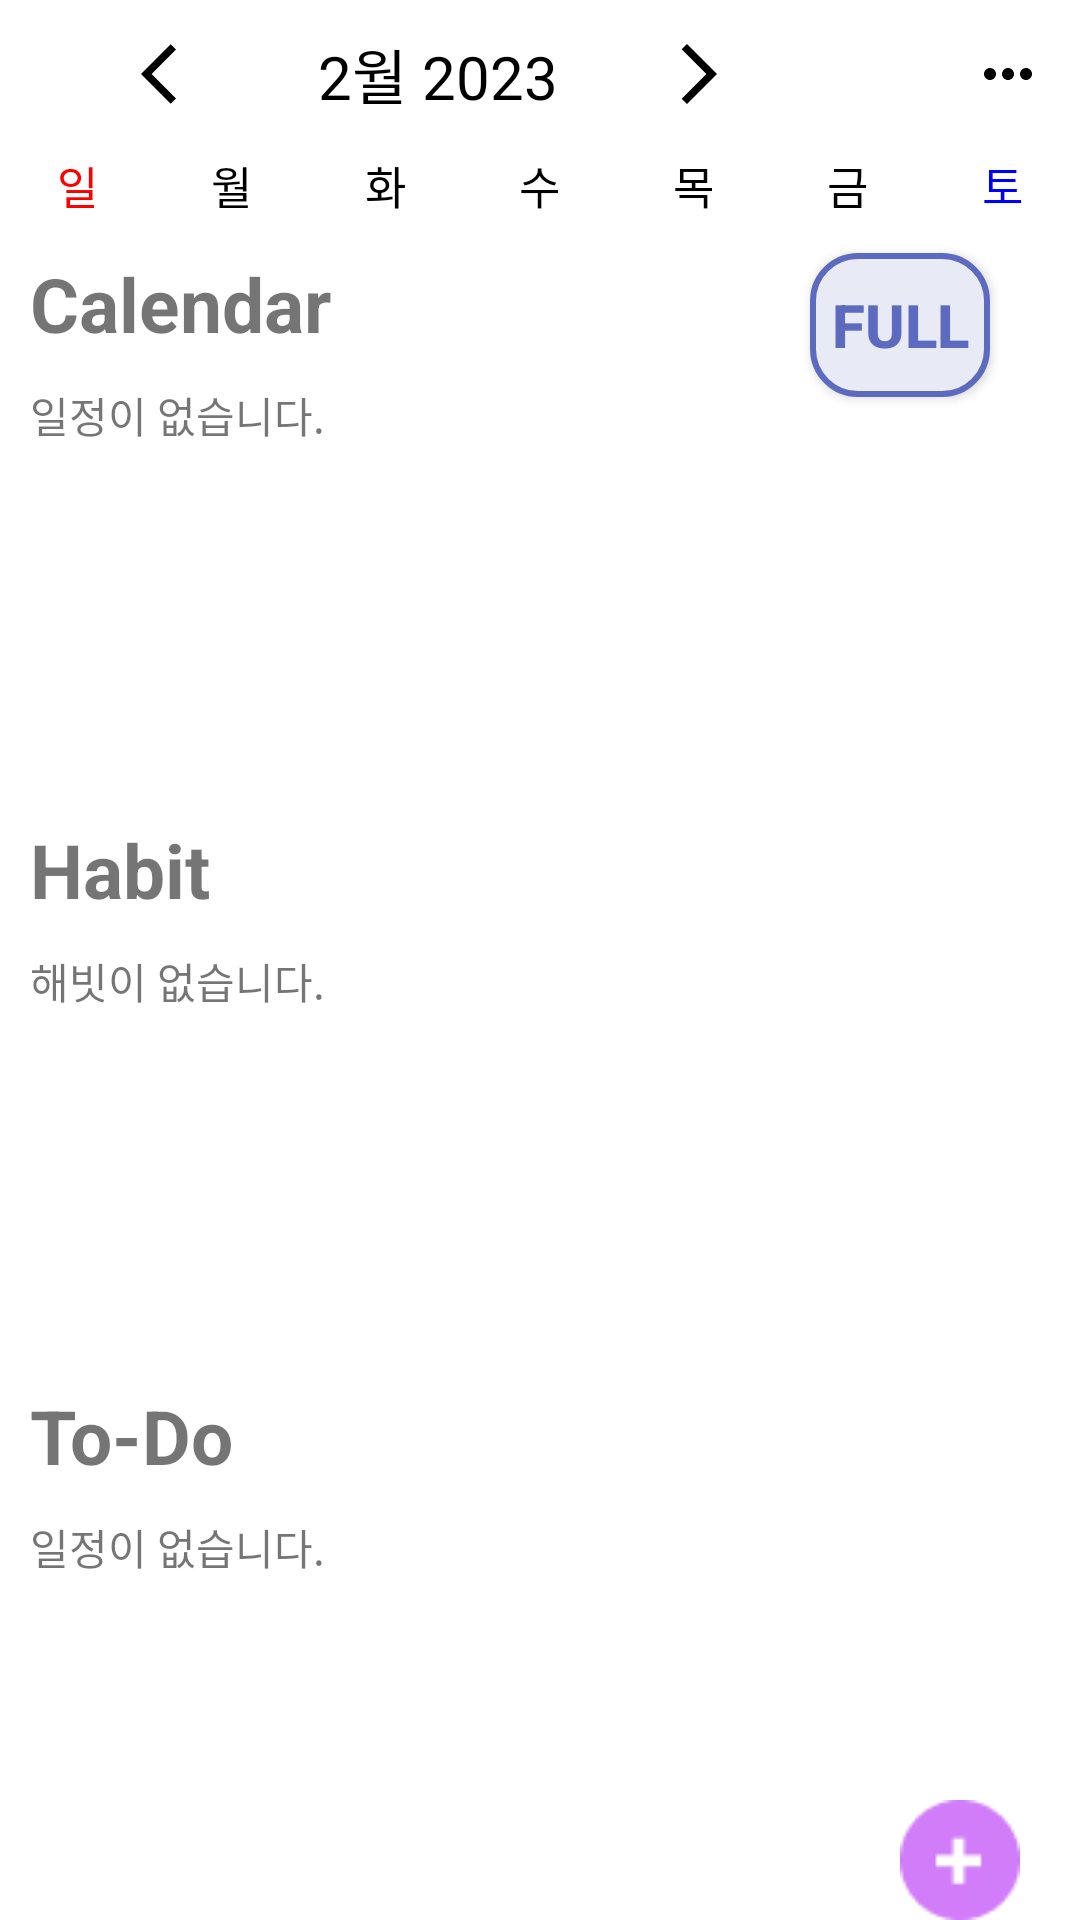

Screen size 1080*1920. Icon name, then its center in pixels as (x,y):
more horiz: (1008,74)
next month: (699,74)
plus: (960,1860)
pre month: (158,74)
